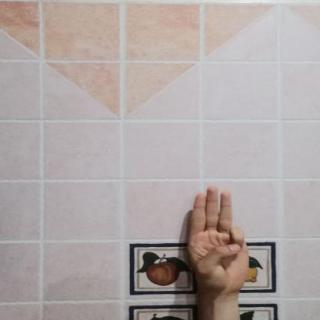THA: (177, 183, 253, 299)
